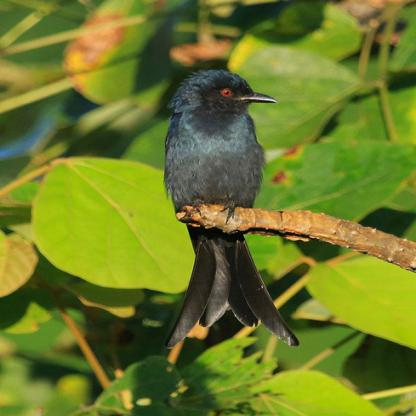Burung: (159, 67, 302, 352)
